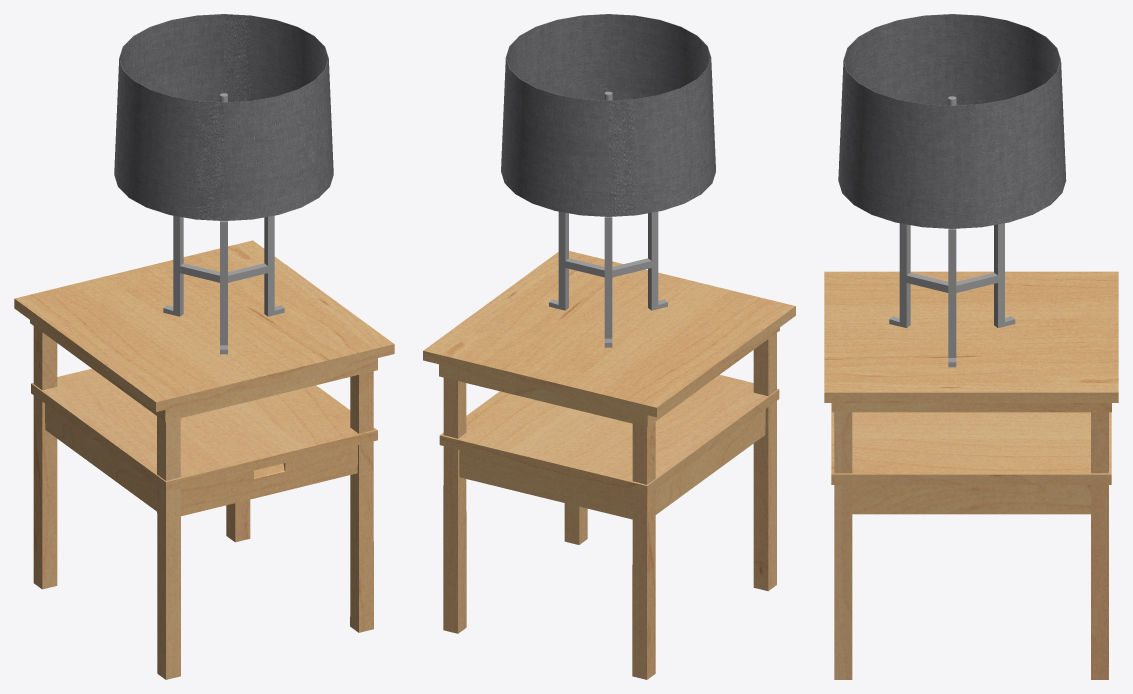
The model's file is chuangtougui03.fbx.
The picture shows the model from 3 angles, left to right: view 1: azimuth 30°, elevation 25°; view 2: azimuth 150°, elevation 25°; view 3: azimuth 270°, elevation 25°; orthographic projection. The views are drawn at different scales.
Parts seen in each view (by area): view 1: chuangtougui03; view 2: chuangtougui03; view 3: chuangtougui03.
Part boxes in pixels (left/top/right/bottom): chuangtougui03: left=14, top=14, right=394, bottom=679; chuangtougui03: left=423, top=14, right=795, bottom=679; chuangtougui03: left=824, top=14, right=1118, bottom=679.
Size of the model in its own units: 53.27 by 118 by 54.85.
